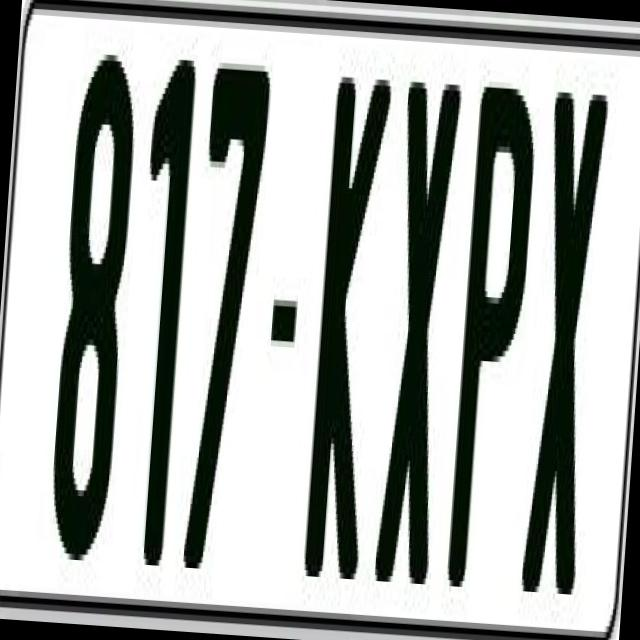1: (116, 57, 192, 588)
7: (175, 50, 273, 589)
8: (46, 47, 146, 556)
K: (302, 76, 396, 585)
P: (443, 86, 535, 607)
X: (520, 80, 614, 612), (371, 75, 462, 596)
